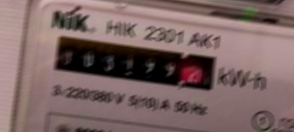0: (59, 44, 72, 63), (82, 46, 93, 65)
1: (124, 48, 133, 67)
3: (103, 50, 112, 70)
6: (185, 67, 196, 84)
9: (163, 58, 174, 76), (144, 53, 153, 71)
screen: (47, 28, 222, 96)
